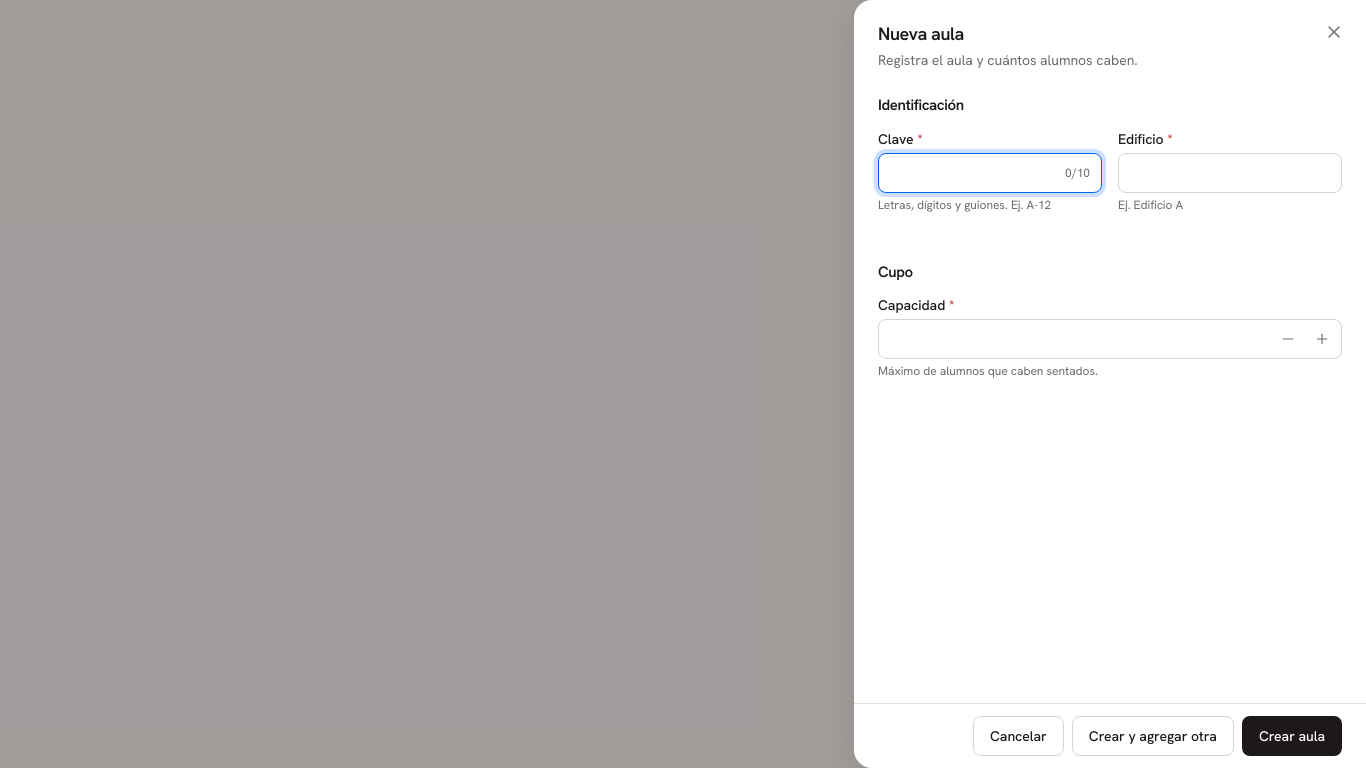
Test: AulaForm: alta en panel lateral › envía los datos normalizados y ofrece la pantalla de éxito con el siguiente paso
The image size is (1366, 768).
In the field labelled "Clave *": (990, 172) [878,152,1102,192], type "a-13"
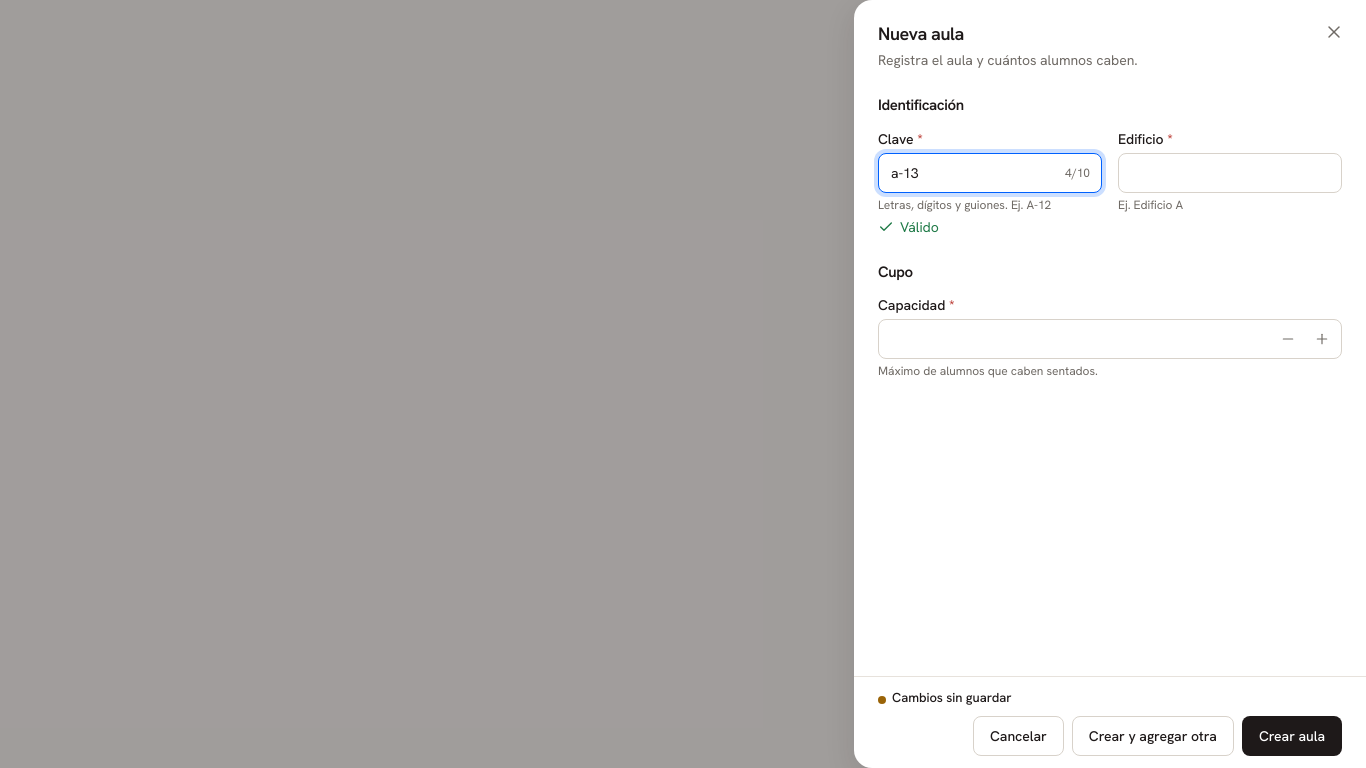
In the field labelled "Edificio *": (1230, 172) [1118,152,1342,192], type "  Edificio   A "
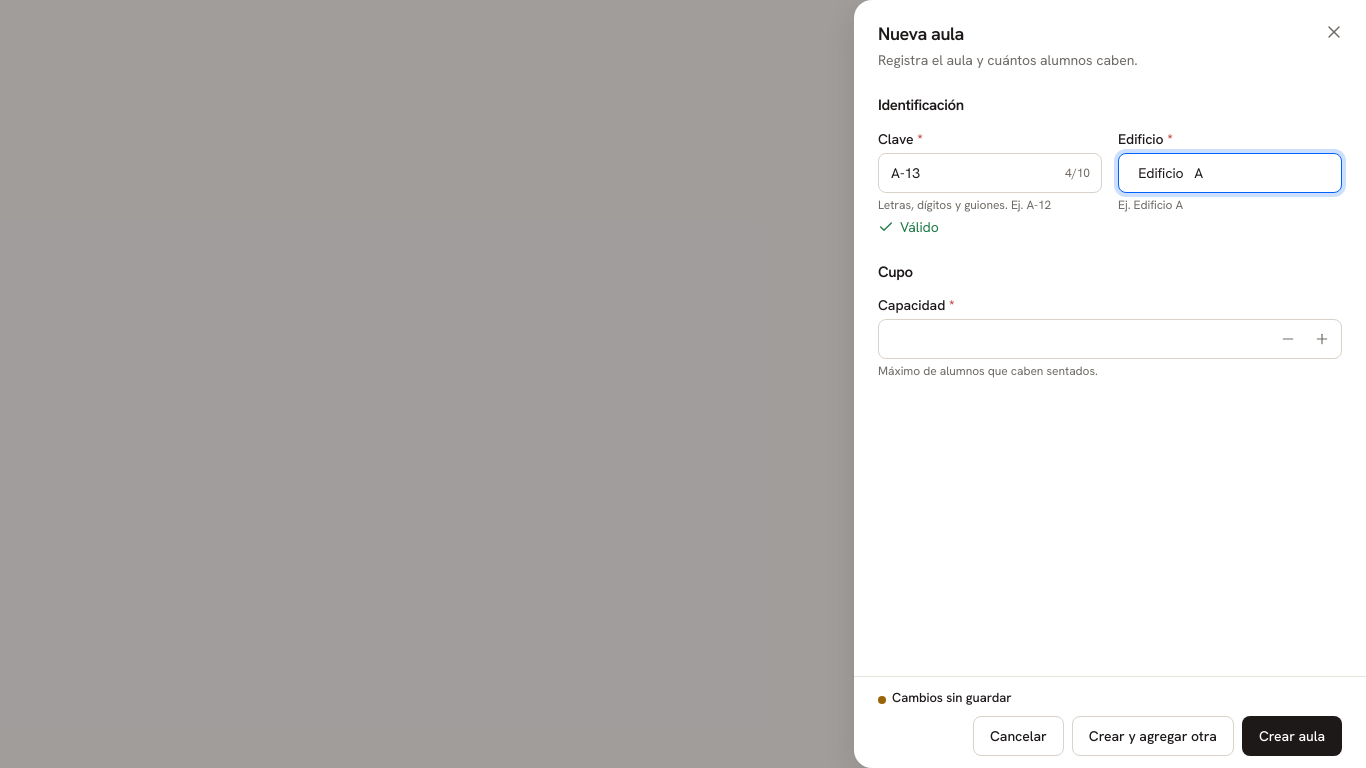
In the field labelled "Capacidad *": (1110, 339) [878,319,1342,359], type "30"
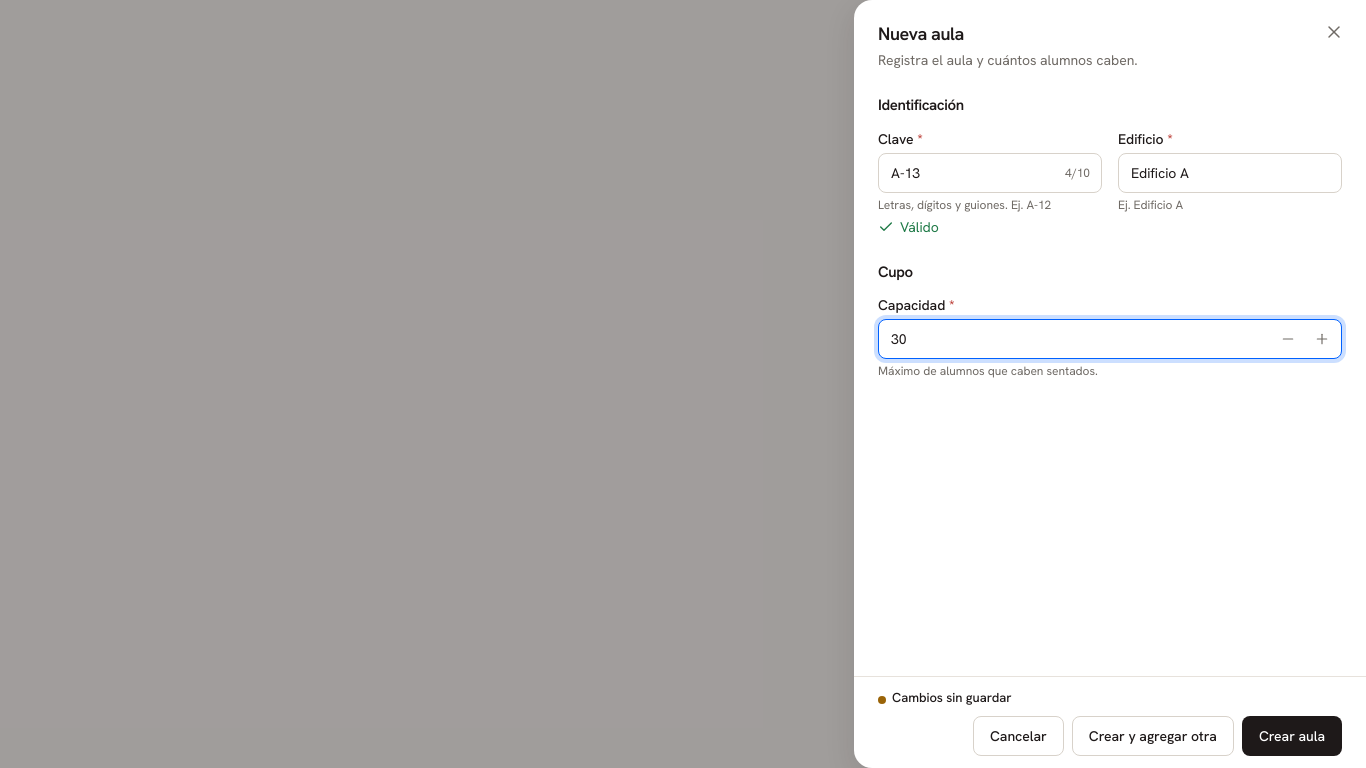
Click the button "Crear aula": (1292, 736) [1242,716,1342,756]
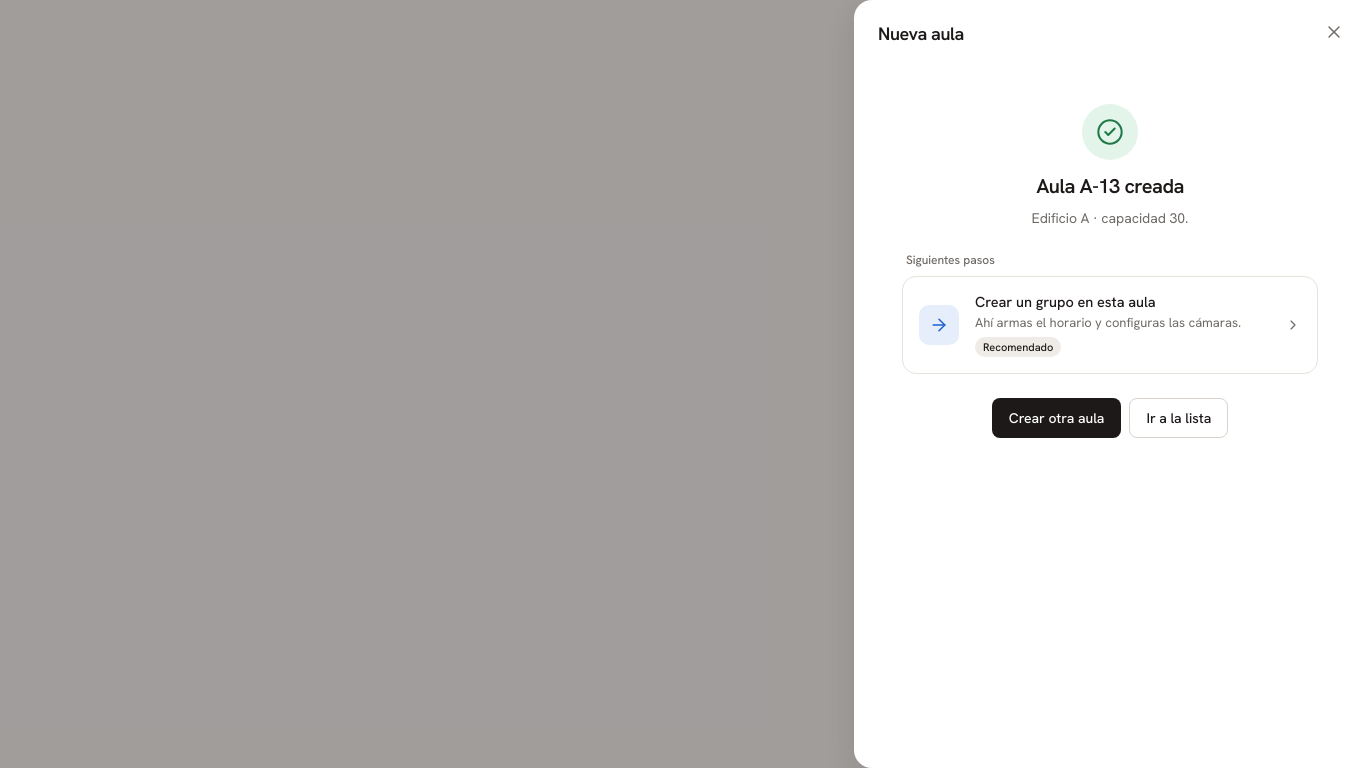
Check: the heading "Aula A-13 creada" is shown, box [1036,172,1184,200]
Check: the button "Crear otra aula" is shown, box [992,398,1121,438]
Check: the button "Ir a la lista" is shown, box [1129,398,1228,438]
